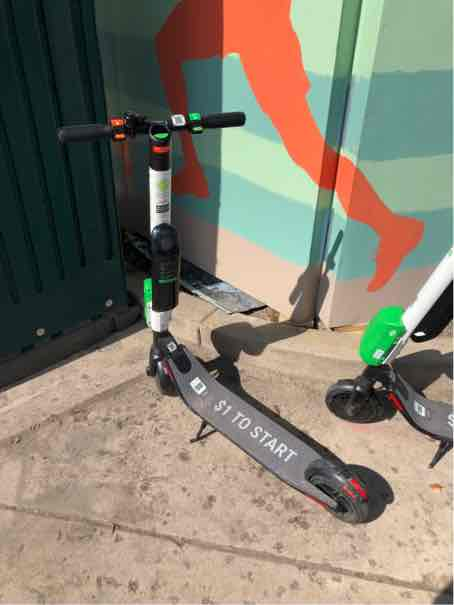scooter: (50, 96, 390, 531)
